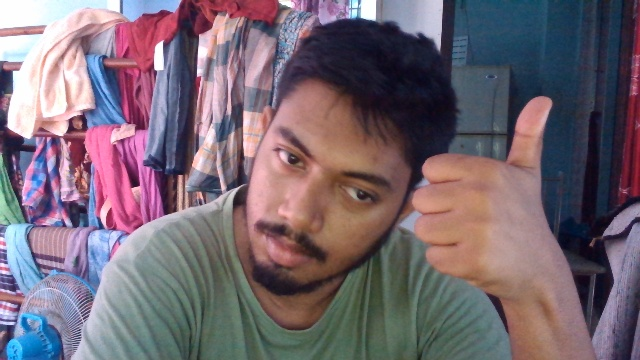yes: (424, 88, 556, 322)
